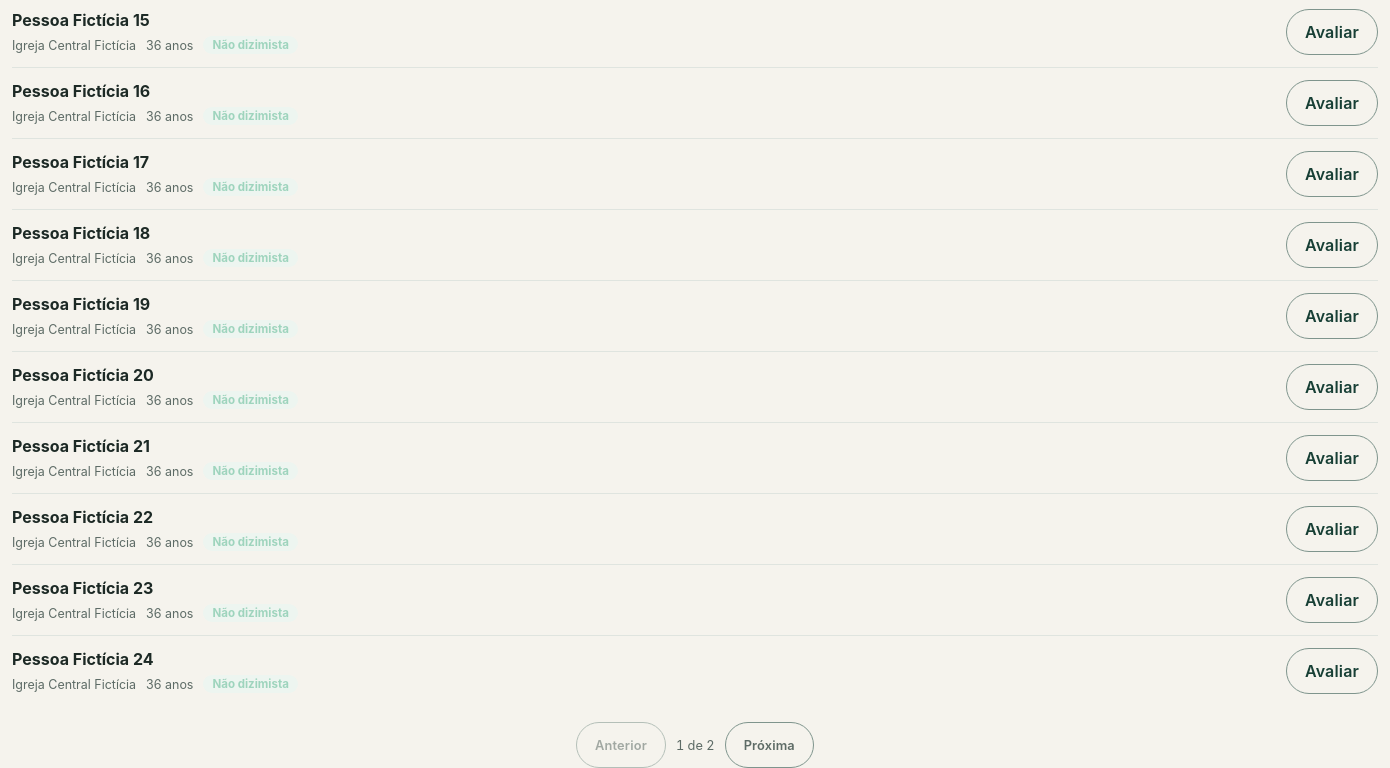
Scenario: pessoas para avaliar › pagina de 25 em 25, mantém o filtro ao virar a página e volta à primeira quando a busca muda
The image size is (1390, 768).
(page scrolled)
expect the button "Anterior" is disabled: met, box [576,722,666,767]
Click the button "Próxima": point(769, 745) [725,722,814,767]
(page scrolled)
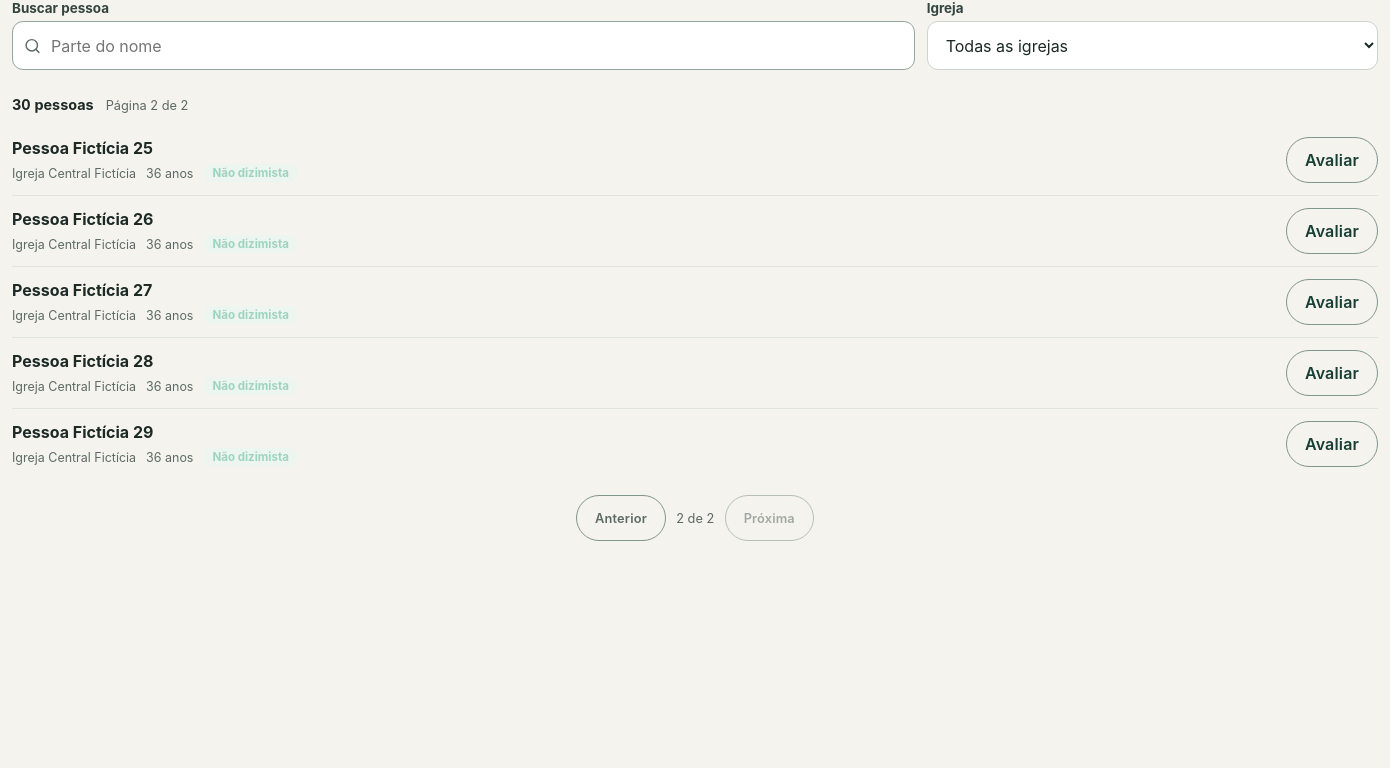
expect the number of list items is 5: met, box [12,125,1378,196]; [12,196,1378,267]; [12,267,1378,338]; [12,338,1378,409]; [12,409,1378,479]
expect the text "Pessoa Fictícia 29" is shown: met, box [12,422,153,442]
expect the button "Próxima" is disabled: met, box [725,495,814,541]
# Buscar na segunda página não deixa o pastor numa página que não existe mais.
In the search field labelled "Buscar pessoa": point(463, 46) [12,21,915,70], type "Pessoa Fictícia 0"
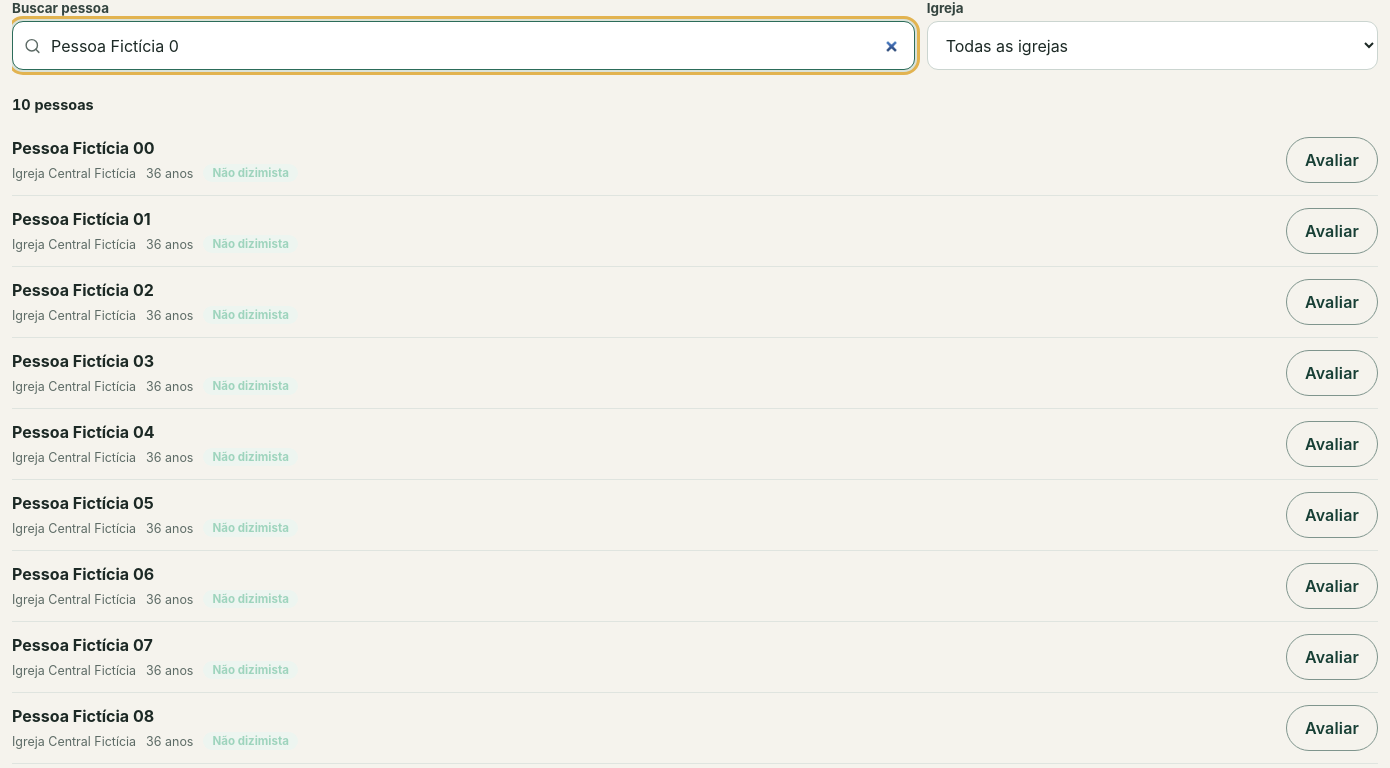
expect the text "10 pessoas" is shown: met, box [12,96,94,113]
